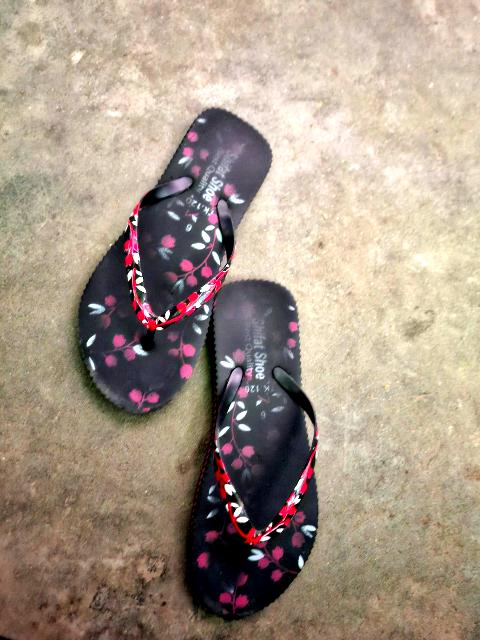sandal: (21, 77, 295, 447), (194, 292, 313, 637)
